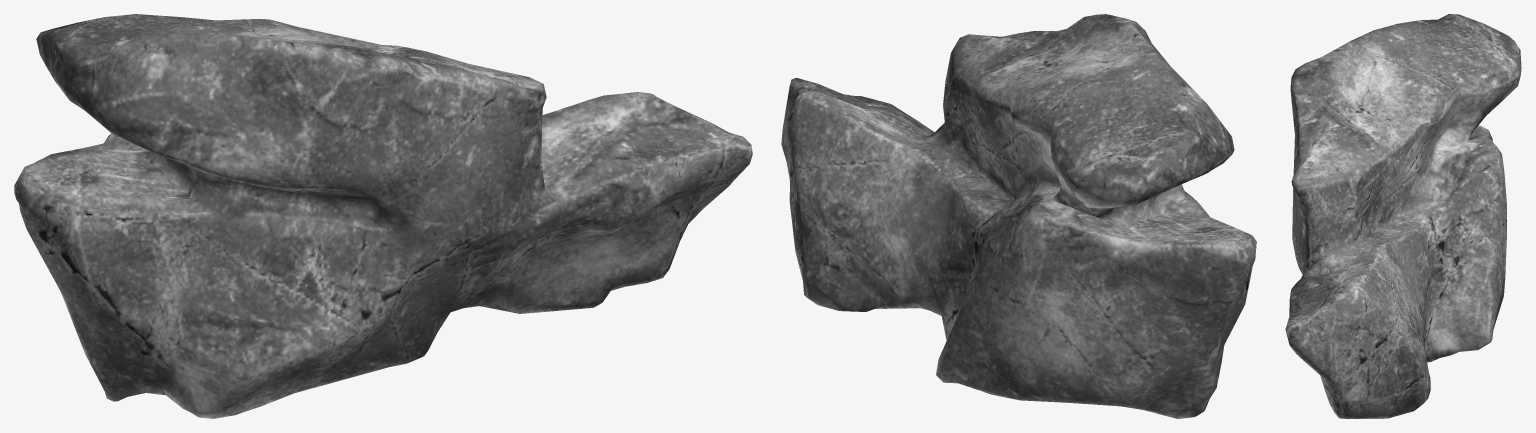
Rendered from Realrock_10.FBX.
3 views of the same model, side by side, from view 1: azimuth 30°, elevation 25°; view 2: azimuth 150°, elevation 25°; view 3: azimuth 270°, elevation 25° (orthographic). The views are drawn at different scales.
Parts seen in each view (by area): view 1: realrock10 lod_1; view 2: realrock10 lod_1; view 3: realrock10 lod_1.
Boxes of the visible parts, <box> form: realrock10 lod_1: <box>14,14,752,418</box>; realrock10 lod_1: <box>781,14,1256,418</box>; realrock10 lod_1: <box>1285,14,1521,418</box>.
Size of the model in its own units: 116 by 65.03 by 51.95.
